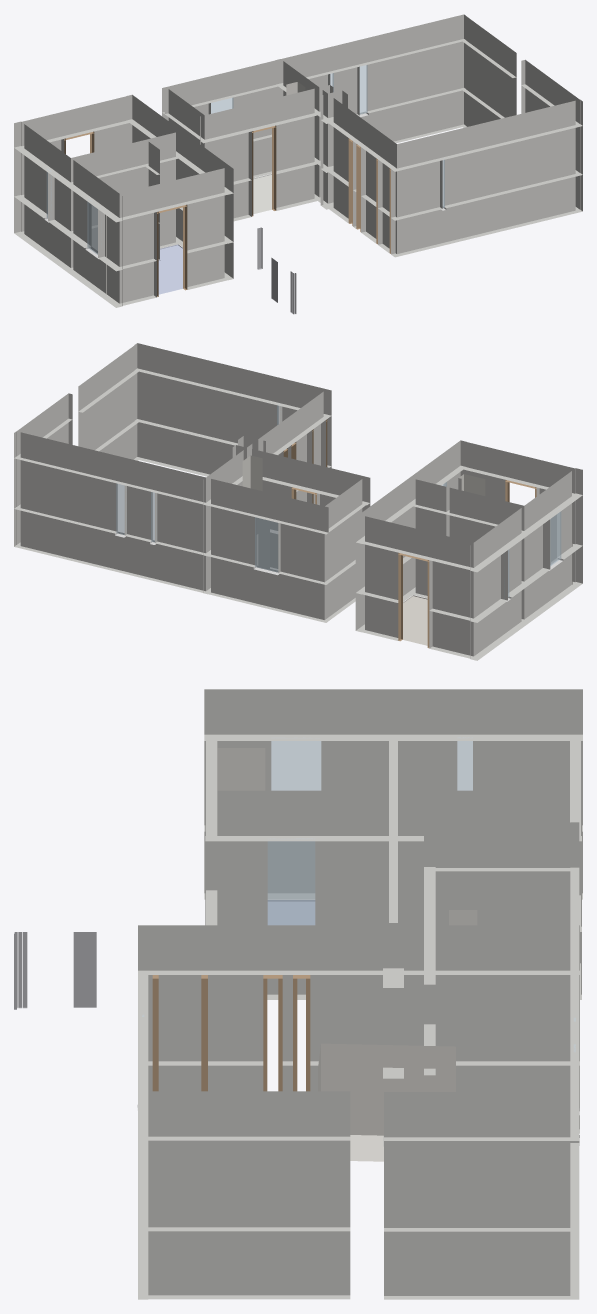
3 renders of one model, top to bottom at view 1: azimuth 30°, elevation 25°; view 2: azimuth 150°, elevation 25°; view 3: azimuth 270°, elevation 25°, orthographic. The views are drawn at different scales.
Visible parts, largest first — view 1: walls, floor_2_Bed_Room, railings, floor_1_Undefined, door_1, door_4, window_0, window_6, door_9, door_12; view 2: walls, window_5, floor_0_Storage, furniture_5_chimney, door_2, window_0, window_6, furniture_1_closet; view 3: walls, furniture_4_fireplace, window_3, railings, window_0, furniture_0_closet, door_12, door_9, floor_2_Bed_Room, door_10, door_13, window_8.
Part boxes in pixels (x1=…): walls: x1=14, y1=14, x2=582, y2=307; floor_2_Bed_Room: x1=158, y1=244, x2=182, y2=294; railings: x1=257, y1=227, x2=296, y2=314; floor_1_Undefined: x1=253, y1=174, x2=271, y2=213; door_1: x1=157, y1=204, x2=187, y2=296; door_4: x1=252, y1=125, x2=276, y2=216; window_0: x1=87, y1=198, x2=101, y2=254; window_6: x1=359, y1=65, x2=367, y2=114; door_9: x1=348, y1=138, x2=352, y2=225; door_12: x1=356, y1=144, x2=360, y2=231; walls: x1=14, y1=343, x2=582, y2=660; window_5: x1=255, y1=517, x2=278, y2=572; floor_0_Storage: x1=403, y1=595, x2=427, y2=645; furniture_5_chimney: x1=242, y1=455, x2=262, y2=566; door_2: x1=398, y1=552, x2=429, y2=648; window_0: x1=550, y1=508, x2=561, y2=566; window_6: x1=116, y1=482, x2=125, y2=534; furniture_1_closet: x1=459, y1=474, x2=485, y2=495; walls: x1=138, y1=689, x2=582, y2=1299; furniture_4_fireplace: x1=318, y1=1043, x2=455, y2=1161; window_3: x1=267, y1=838, x2=315, y2=925; railings: x1=14, y1=932, x2=96, y2=1009; window_0: x1=271, y1=737, x2=321, y2=790; furniture_0_closet: x1=217, y1=748, x2=265, y2=790; door_12: x1=263, y1=975, x2=282, y2=1091; door_9: x1=293, y1=975, x2=310, y2=1091; floor_2_Bed_Room: x1=268, y1=900, x2=314, y2=924; door_10: x1=201, y1=975, x2=207, y2=1091; door_13: x1=152, y1=975, x2=158, y2=1091; window_8: x1=457, y1=737, x2=472, y2=790.
Size of the model in its own units: 11.53 by 2.72 by 6.82.
